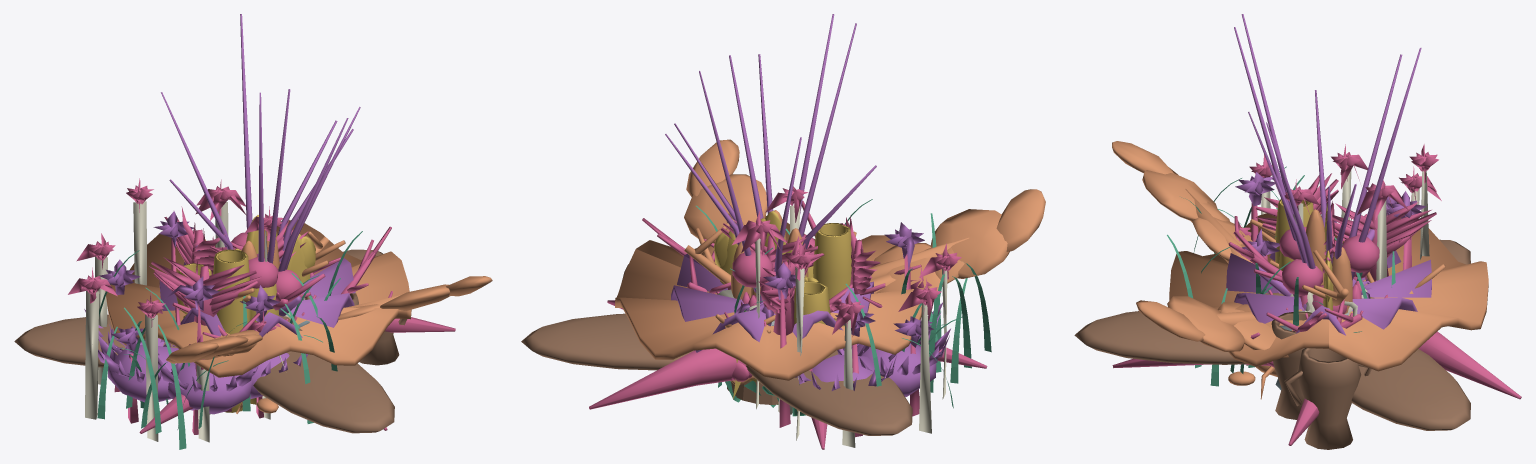
The model's file is reef.glb.
3 views of the same model, side by side, from view 1: azimuth 30°, elevation 25°; view 2: azimuth 150°, elevation 25°; view 3: azimuth 270°, elevation 25° (orthographic). The views are drawn at different scales.
Visible parts, largest first — view 1: Table_coral, Three-blade_wreck_propeller, Tube_worm_cluster, Sea_whip_cluster, Anemone_carpet, Feather_duster_worms, Seagrass_patch, Elkhorn_coral, Xenia-style_coral_clump, Leather_coral, Tall_tube_sponge_cluster, Bushy_soft_coral (+5 smaller); view 2: Table_coral, Elkhorn_coral, Three-blade_wreck_propeller, Tube_worm_cluster, Sea_whip_cluster, Five-arm_starfish, Leather_coral, Anemone_carpet, Xenia-style_coral_clump, Seagrass_patch, Tall_tube_sponge_cluster, Feather_duster_worms (+5 smaller); view 3: Table_coral, Three-blade_wreck_propeller, Elkhorn_coral, Amphora_pile, Sea_whip_cluster, Leather_coral, Tube_worm_cluster, Feather_duster_worms, Five-arm_starfish, Carnation_coral, Xenia-style_coral_clump, Bushy_soft_coral (+5 smaller).
Boxes of the visible parts, box(x1,y1,x2,y2) form: Table_coral: box(105, 219, 411, 377); Three-blade_wreck_propeller: box(14, 249, 394, 433); Tube_worm_cluster: box(68, 178, 283, 442); Sea_whip_cluster: box(161, 14, 360, 271); Anemone_carpet: box(84, 309, 308, 414); Feather_duster_worms: box(149, 206, 308, 414); Seagrass_patch: box(97, 231, 362, 449); Elkhorn_coral: box(166, 276, 492, 363); Xenia-style_coral_clump: box(99, 211, 280, 434); Leather_coral: box(159, 235, 355, 337); Tall_tube_sponge_cluster: box(176, 249, 278, 412); Bushy_soft_coral: box(154, 226, 392, 411); Table_coral: box(615, 216, 929, 380); Elkhorn_coral: box(684, 139, 1045, 293); Three-blade_wreck_propeller: box(521, 313, 912, 435); Tube_worm_cluster: box(732, 186, 961, 447); Sea_whip_cluster: box(665, 14, 876, 292); Five-arm_starfish: box(589, 300, 987, 449); Leather_coral: box(671, 253, 873, 352); Anemone_carpet: box(795, 302, 950, 396); Xenia-style_coral_clump: box(734, 222, 933, 437); Seagrass_patch: box(696, 199, 991, 408); Tall_tube_sponge_cluster: box(794, 223, 851, 411); Feather_duster_worms: box(720, 215, 880, 414); Table_coral: box(1169, 213, 1488, 371); Three-blade_wreck_propeller: box(1074, 239, 1470, 430); Elkhorn_coral: box(1112, 141, 1288, 357); Amphora_pile: box(1271, 311, 1371, 449); Sea_whip_cluster: box(1234, 14, 1421, 280); Leather_coral: box(1226, 250, 1431, 335); Tube_worm_cluster: box(1238, 144, 1441, 365); Feather_duster_worms: box(1256, 173, 1436, 281); Five-arm_starfish: box(1112, 331, 1521, 445); Carnation_coral: box(1255, 227, 1379, 314); Xenia-style_coral_clump: box(1235, 172, 1426, 298); Bushy_soft_coral: box(1228, 214, 1367, 367).
Bounding box in the file's own units: 9.27 × 8.3 × 9.34.
